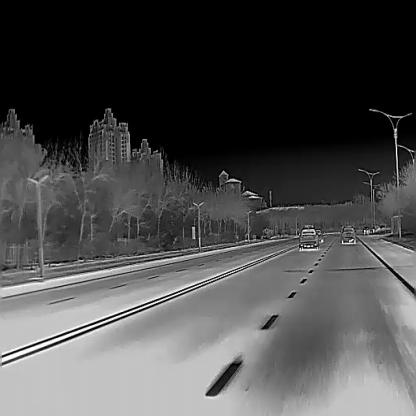car: (298, 226, 320, 249), (340, 225, 356, 242), (315, 228, 323, 243), (362, 226, 369, 234)
